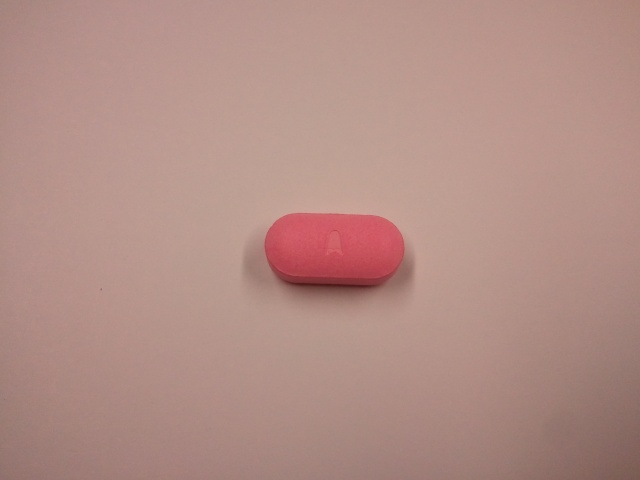A: (321, 226, 350, 262)
